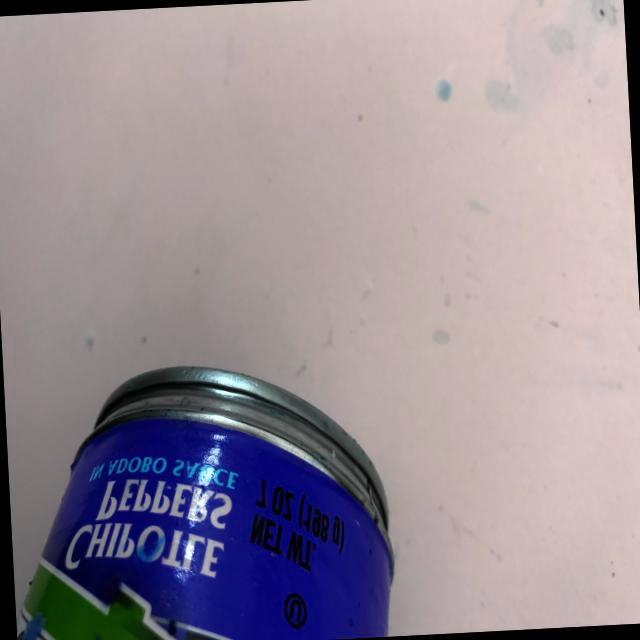metal: (0, 323, 418, 640)
